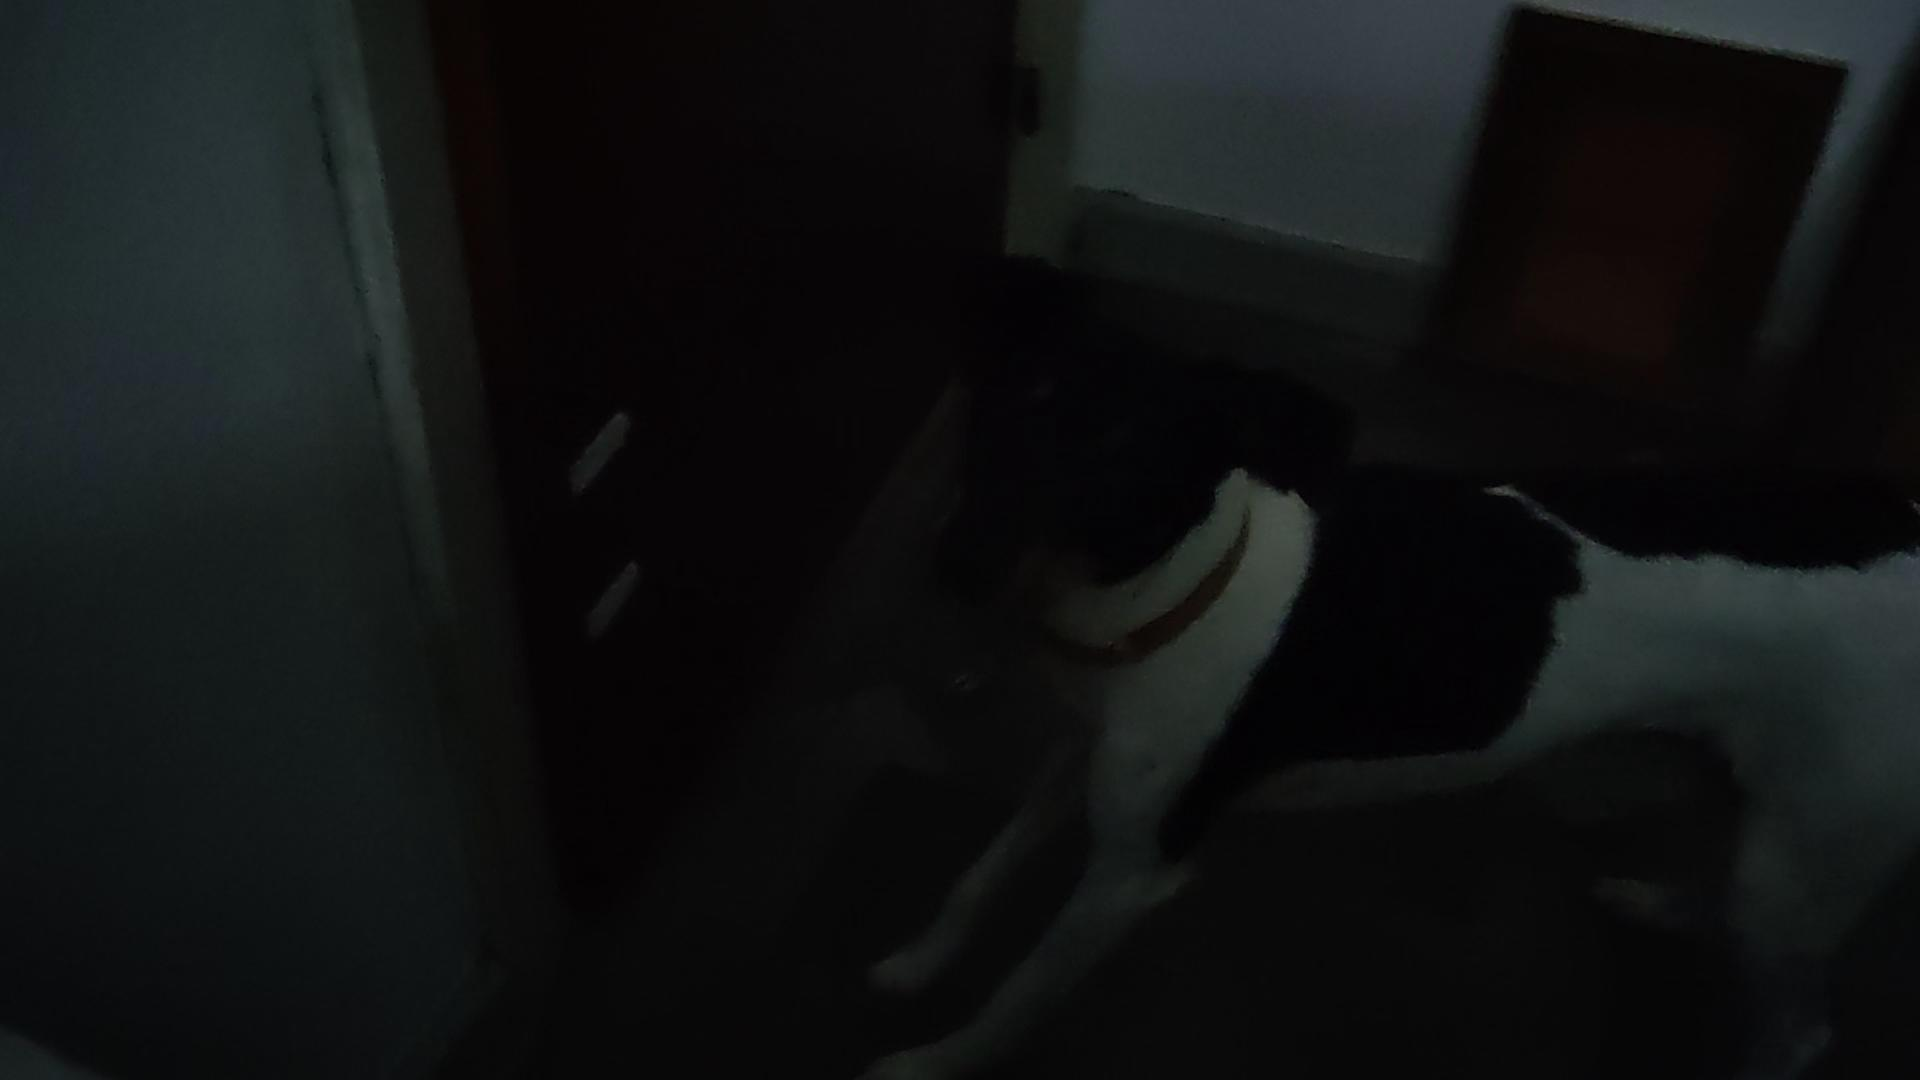Dog: (849, 247, 1919, 1079)
